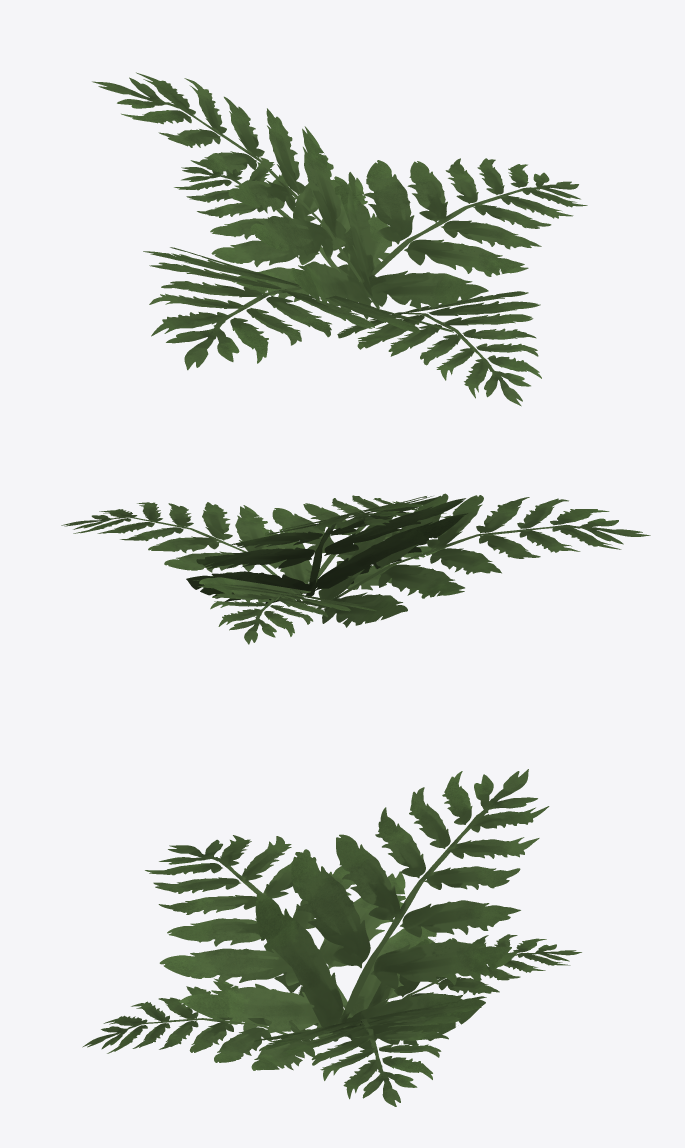
Rendered from fernfoliage.fbx.
3 views of the same model, one above another, from view 1: azimuth 30°, elevation 25°; view 2: azimuth 150°, elevation 25°; view 3: azimuth 270°, elevation 25° (orthographic). The views are drawn at different scales.
Parts seen in each view (by area): view 1: leaf.007; view 2: leaf.007; view 3: leaf.007.
Boxes of the visible parts, box(x1,y1,x2,y2) form: leaf.007: box(92, 72, 587, 406); leaf.007: box(61, 493, 650, 644); leaf.007: box(82, 769, 581, 1106).
Size of the model in its own units: 313 by 109 by 300.
